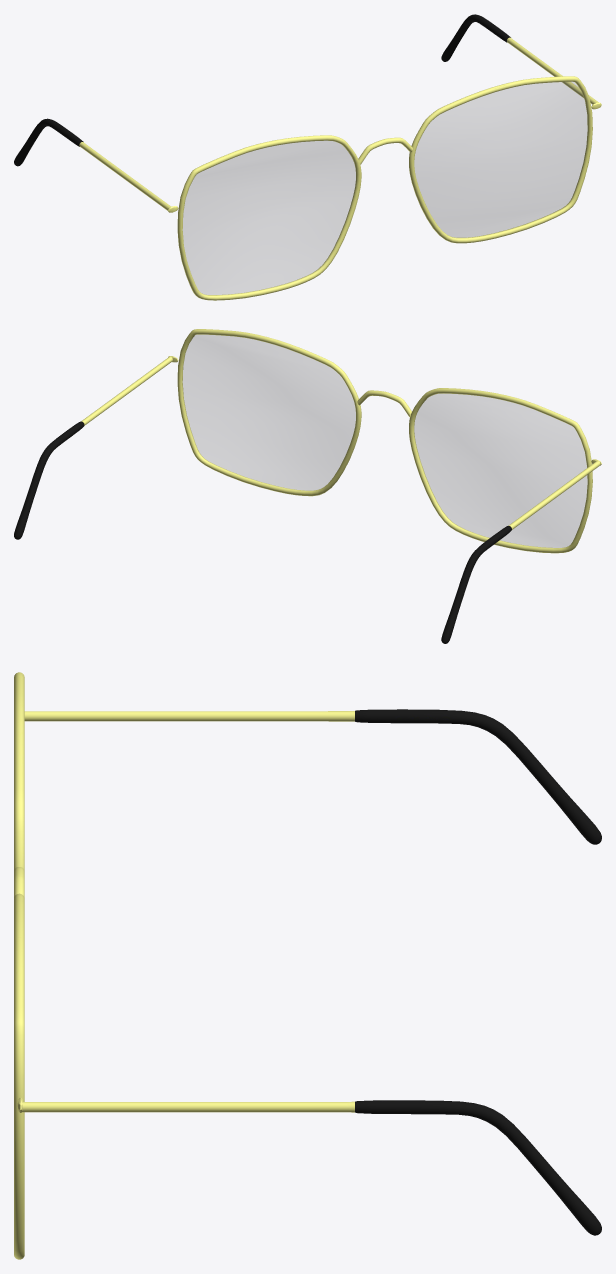
Rendered from transparent_glasses_with_baked_textures.glb.
The picture shows the model from 3 angles, top to bottom: view 1: azimuth 30°, elevation 25°; view 2: azimuth 150°, elevation 25°; view 3: azimuth 270°, elevation 25°; orthographic projection. The views are drawn at different scales.
Visible parts, largest first — view 1: Glases; view 2: Glases; view 3: Glases.
Part boxes in pixels (x1=…): Glases: x1=14, y1=14, x2=601, y2=300; Glases: x1=14, y1=329, x2=601, y2=643; Glases: x1=14, y1=672, x2=601, y2=1259.
Bounding box in the file's own units: 2.85 × 0.948 × 1.78.
Materials: 1 (1 with a texture image).
